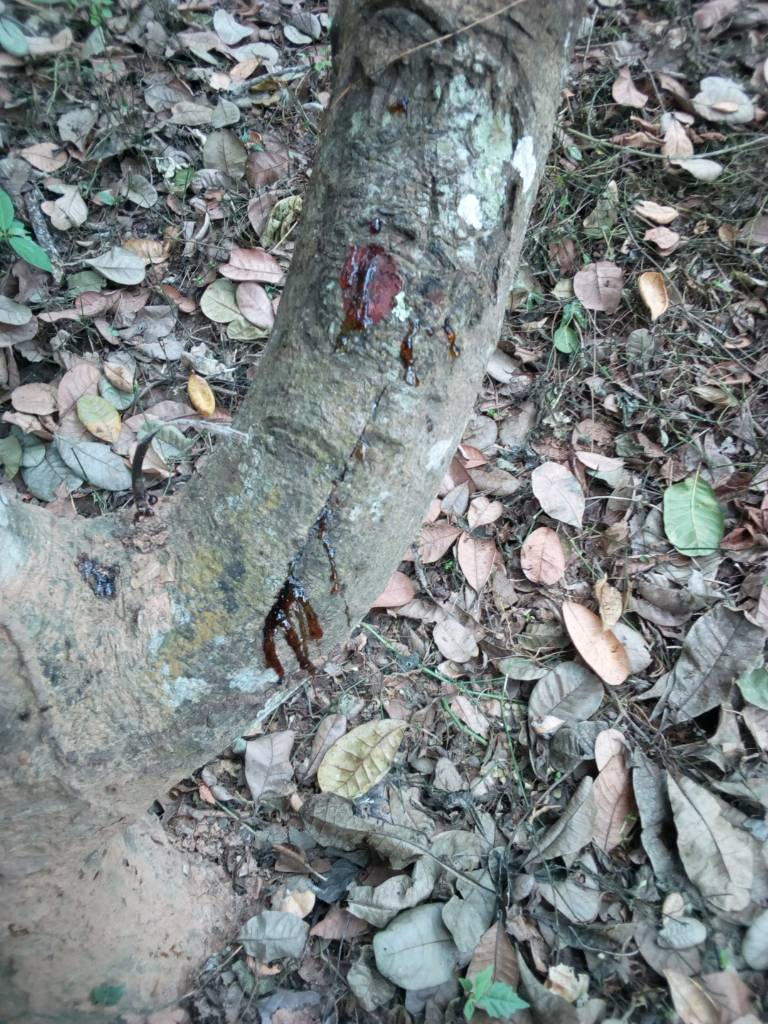Gommose: (333, 227, 474, 389), (260, 530, 346, 683)
